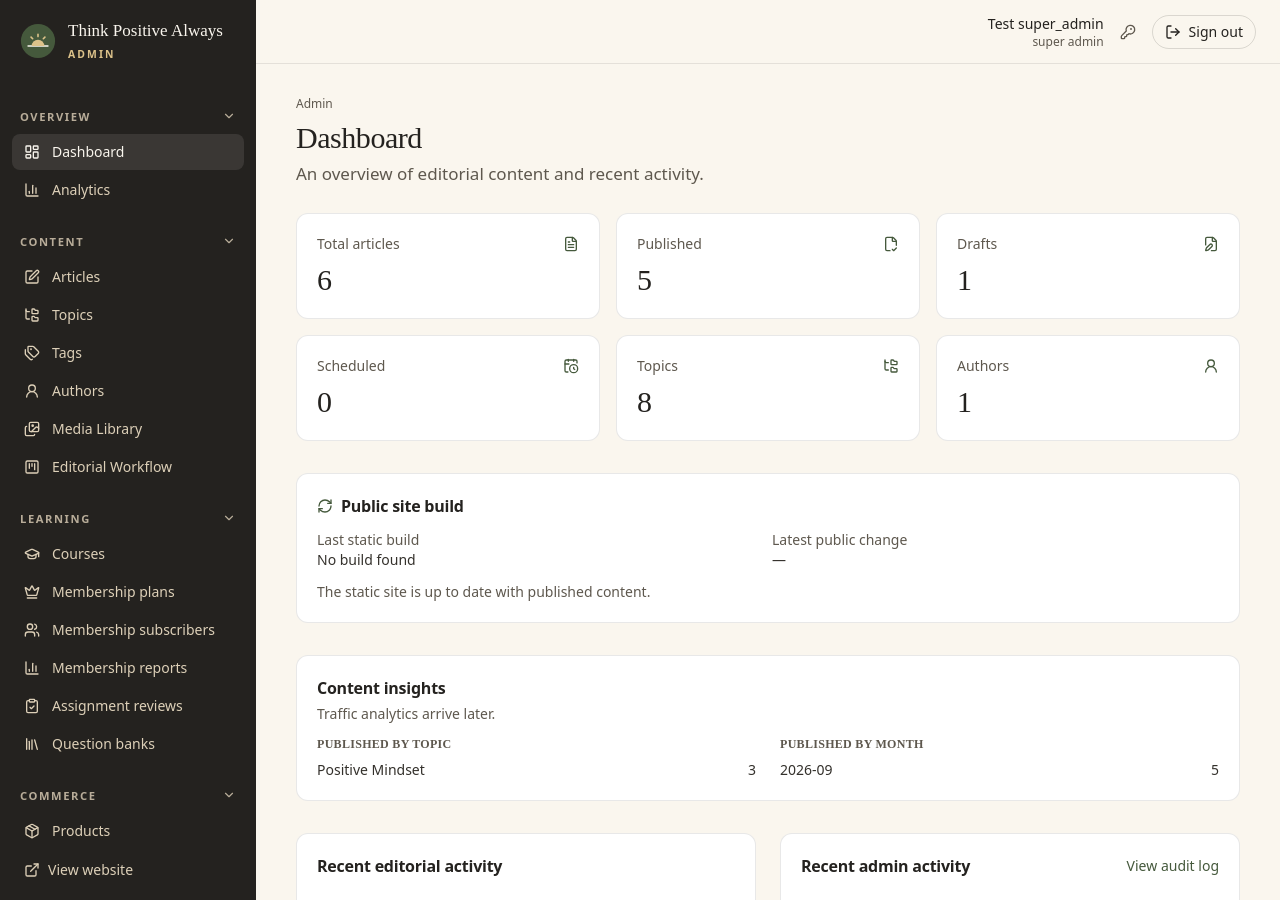
Test: admin authentication › signs out and returns to the login page
Click the button "Sign out".
click(1204, 32)  # box [1152, 14, 1256, 48]
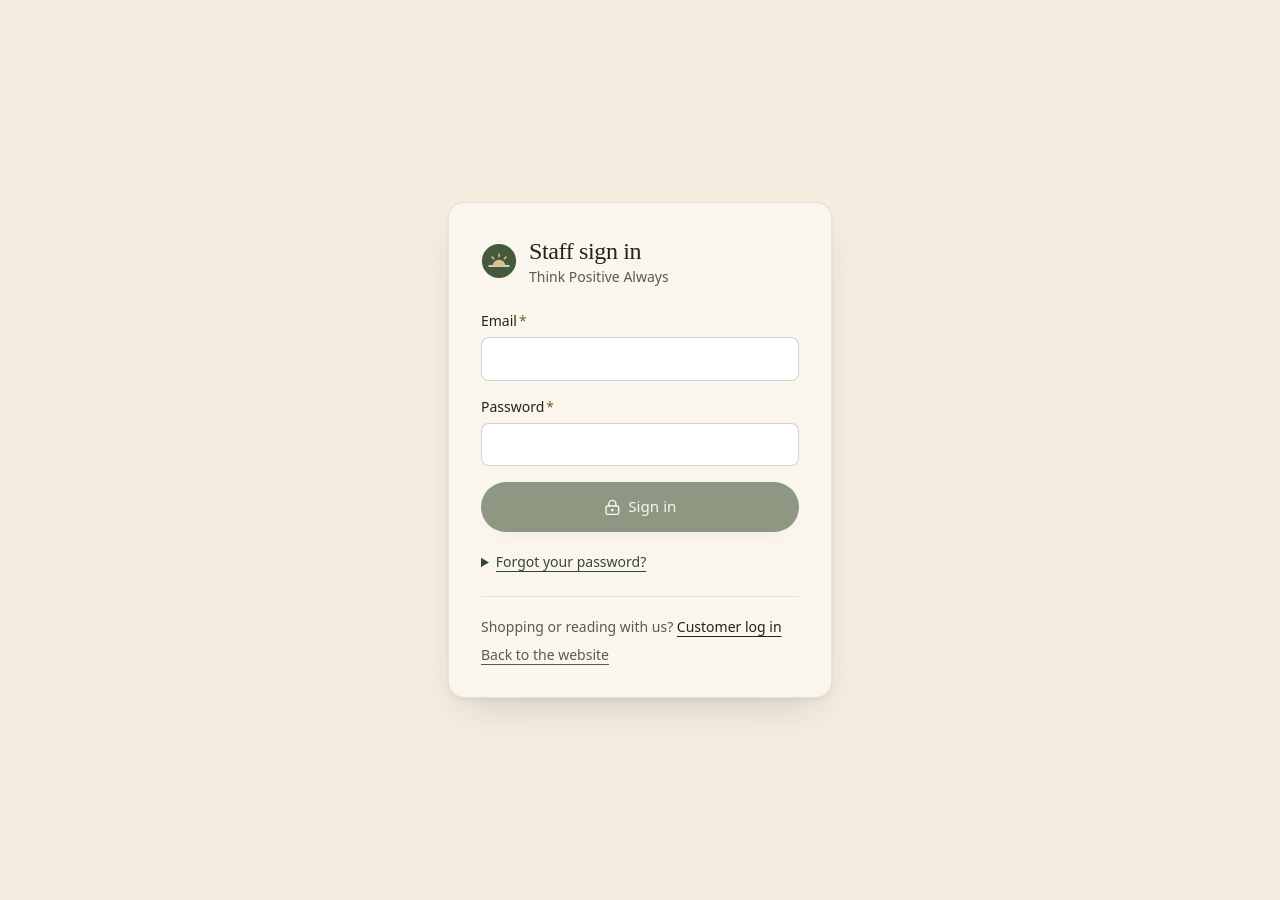
Expected: the heading "Staff sign in" is shown, [529, 238, 641, 264]
